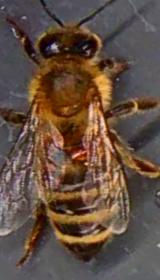varroa_mite: (70, 134, 96, 168)
